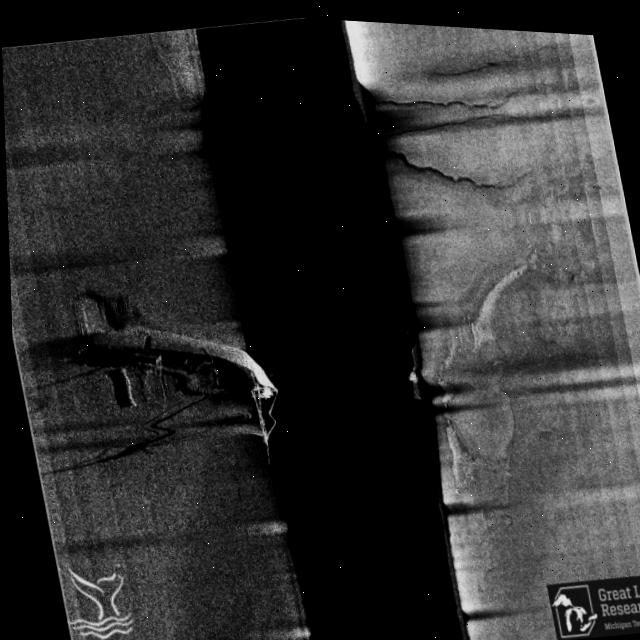shipwreck: (79, 293, 284, 460)
